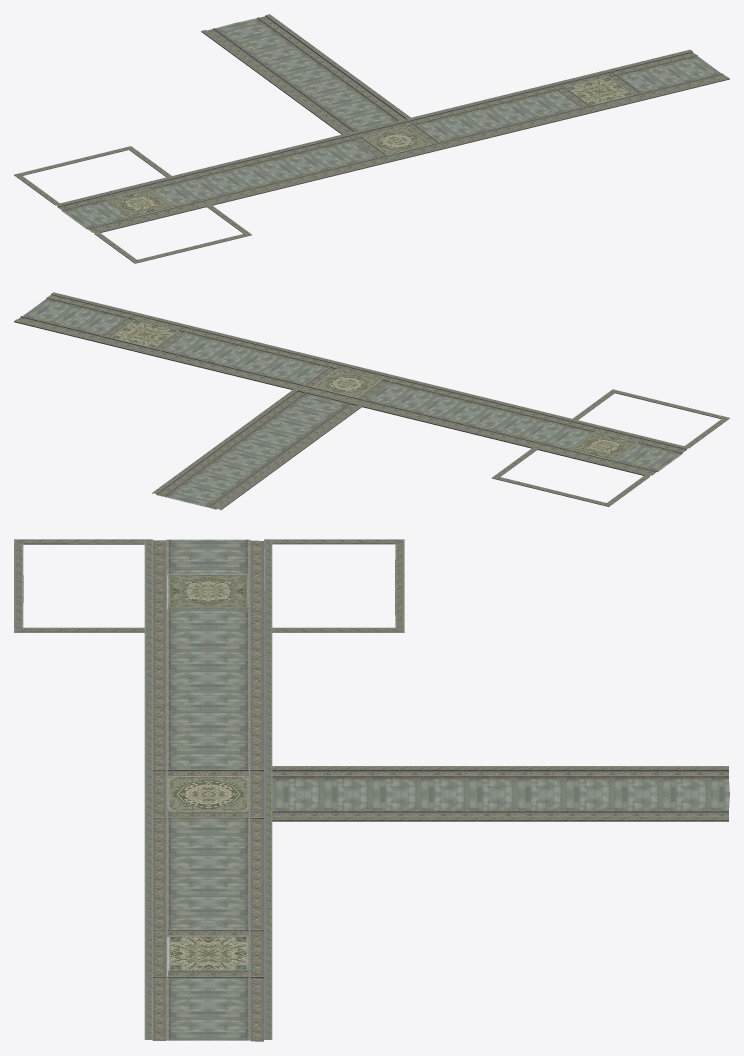
Rendered from szc_building_dimian_quyu1_02.FBX.
3 views of the same model, one above another, from view 1: azimuth 30°, elevation 25°; view 2: azimuth 150°, elevation 25°; view 3: azimuth 270°, elevation 25° (orthographic). The views are drawn at different scales.
Parts seen in each view (by area): view 1: szc_building_dimian_quyu1_02; view 2: szc_building_dimian_quyu1_02; view 3: szc_building_dimian_quyu1_02.
Boxes of the visible parts, x1,y1,x2,y2 form: szc_building_dimian_quyu1_02: (14,14,729,263); szc_building_dimian_quyu1_02: (14,292,729,510); szc_building_dimian_quyu1_02: (14,539,729,1041).
Bounding box in the file's own units: 3836 × 9.75 × 2316.
